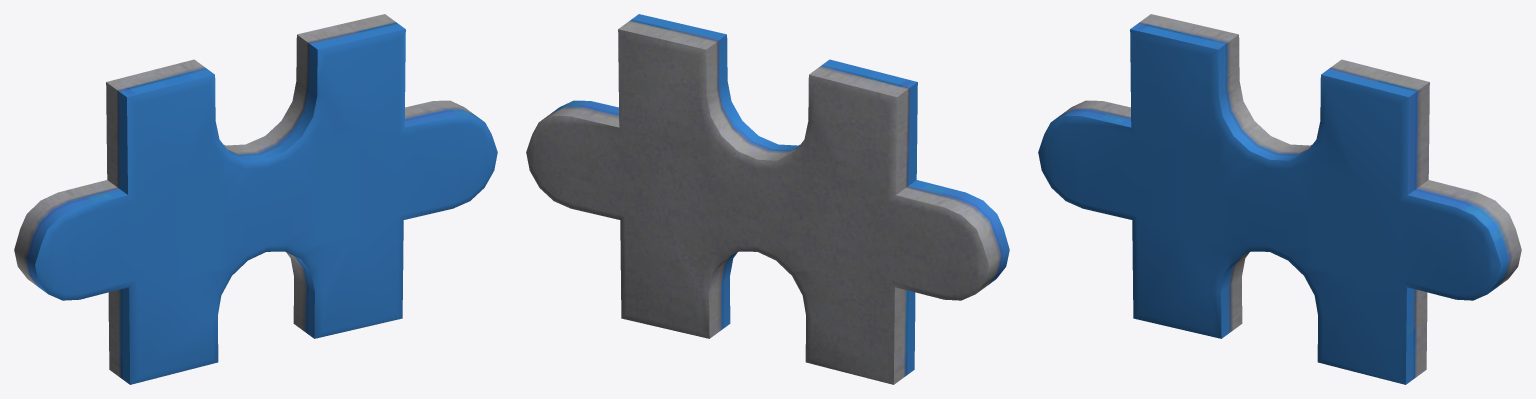
The model's file is 0-jigsaw_blue.fbx.
3 views of the same model, side by side, from view 1: azimuth 30°, elevation 25°; view 2: azimuth 150°, elevation 25°; view 3: azimuth 330°, elevation 25° (orthographic).
Visible parts, largest first — view 1: 0-jigsaw_blue; view 2: 0-jigsaw_blue; view 3: 0-jigsaw_blue.
Boxes of the visible parts, <box> form: 0-jigsaw_blue: <box>14,14,497,384</box>; 0-jigsaw_blue: <box>526,14,1009,384</box>; 0-jigsaw_blue: <box>1038,14,1521,384</box>.
Size of the model in its own units: 108 by 64.3 by 9.68.
